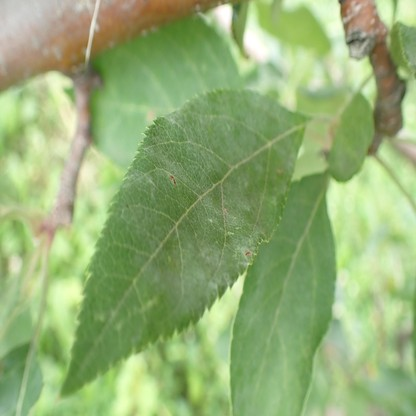powdery_mildew: (57, 88, 307, 395), (230, 169, 337, 416)
